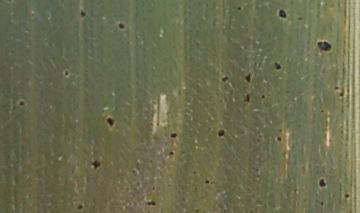tarspot: (316, 40, 331, 51), (90, 159, 101, 169), (106, 116, 115, 127), (278, 8, 287, 19), (318, 177, 327, 188), (216, 128, 225, 138), (145, 200, 157, 207), (116, 22, 125, 30), (220, 75, 229, 83), (274, 62, 282, 70), (275, 134, 282, 142), (80, 9, 86, 18), (245, 74, 251, 83), (245, 93, 250, 103), (18, 100, 25, 107), (343, 192, 350, 199), (203, 178, 210, 185), (191, 169, 198, 176), (76, 204, 83, 211), (169, 132, 177, 138), (254, 166, 260, 174), (150, 184, 156, 191), (192, 208, 200, 213), (63, 70, 69, 76), (168, 150, 174, 156), (260, 94, 266, 100), (277, 127, 283, 133), (338, 91, 344, 97), (296, 16, 303, 21), (237, 5, 242, 11), (335, 85, 340, 91), (320, 108, 324, 114), (320, 200, 324, 206)
